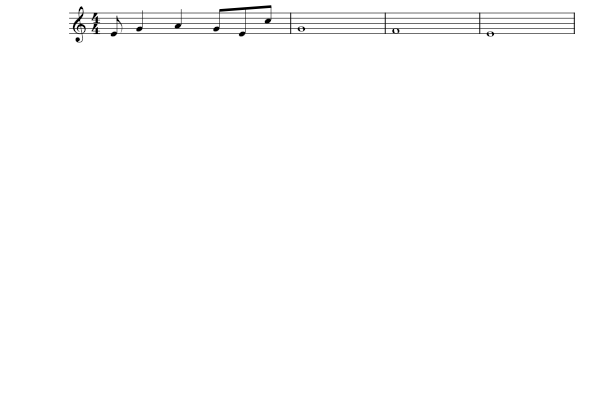Treble Clef: (67, 0, 90, 47)
